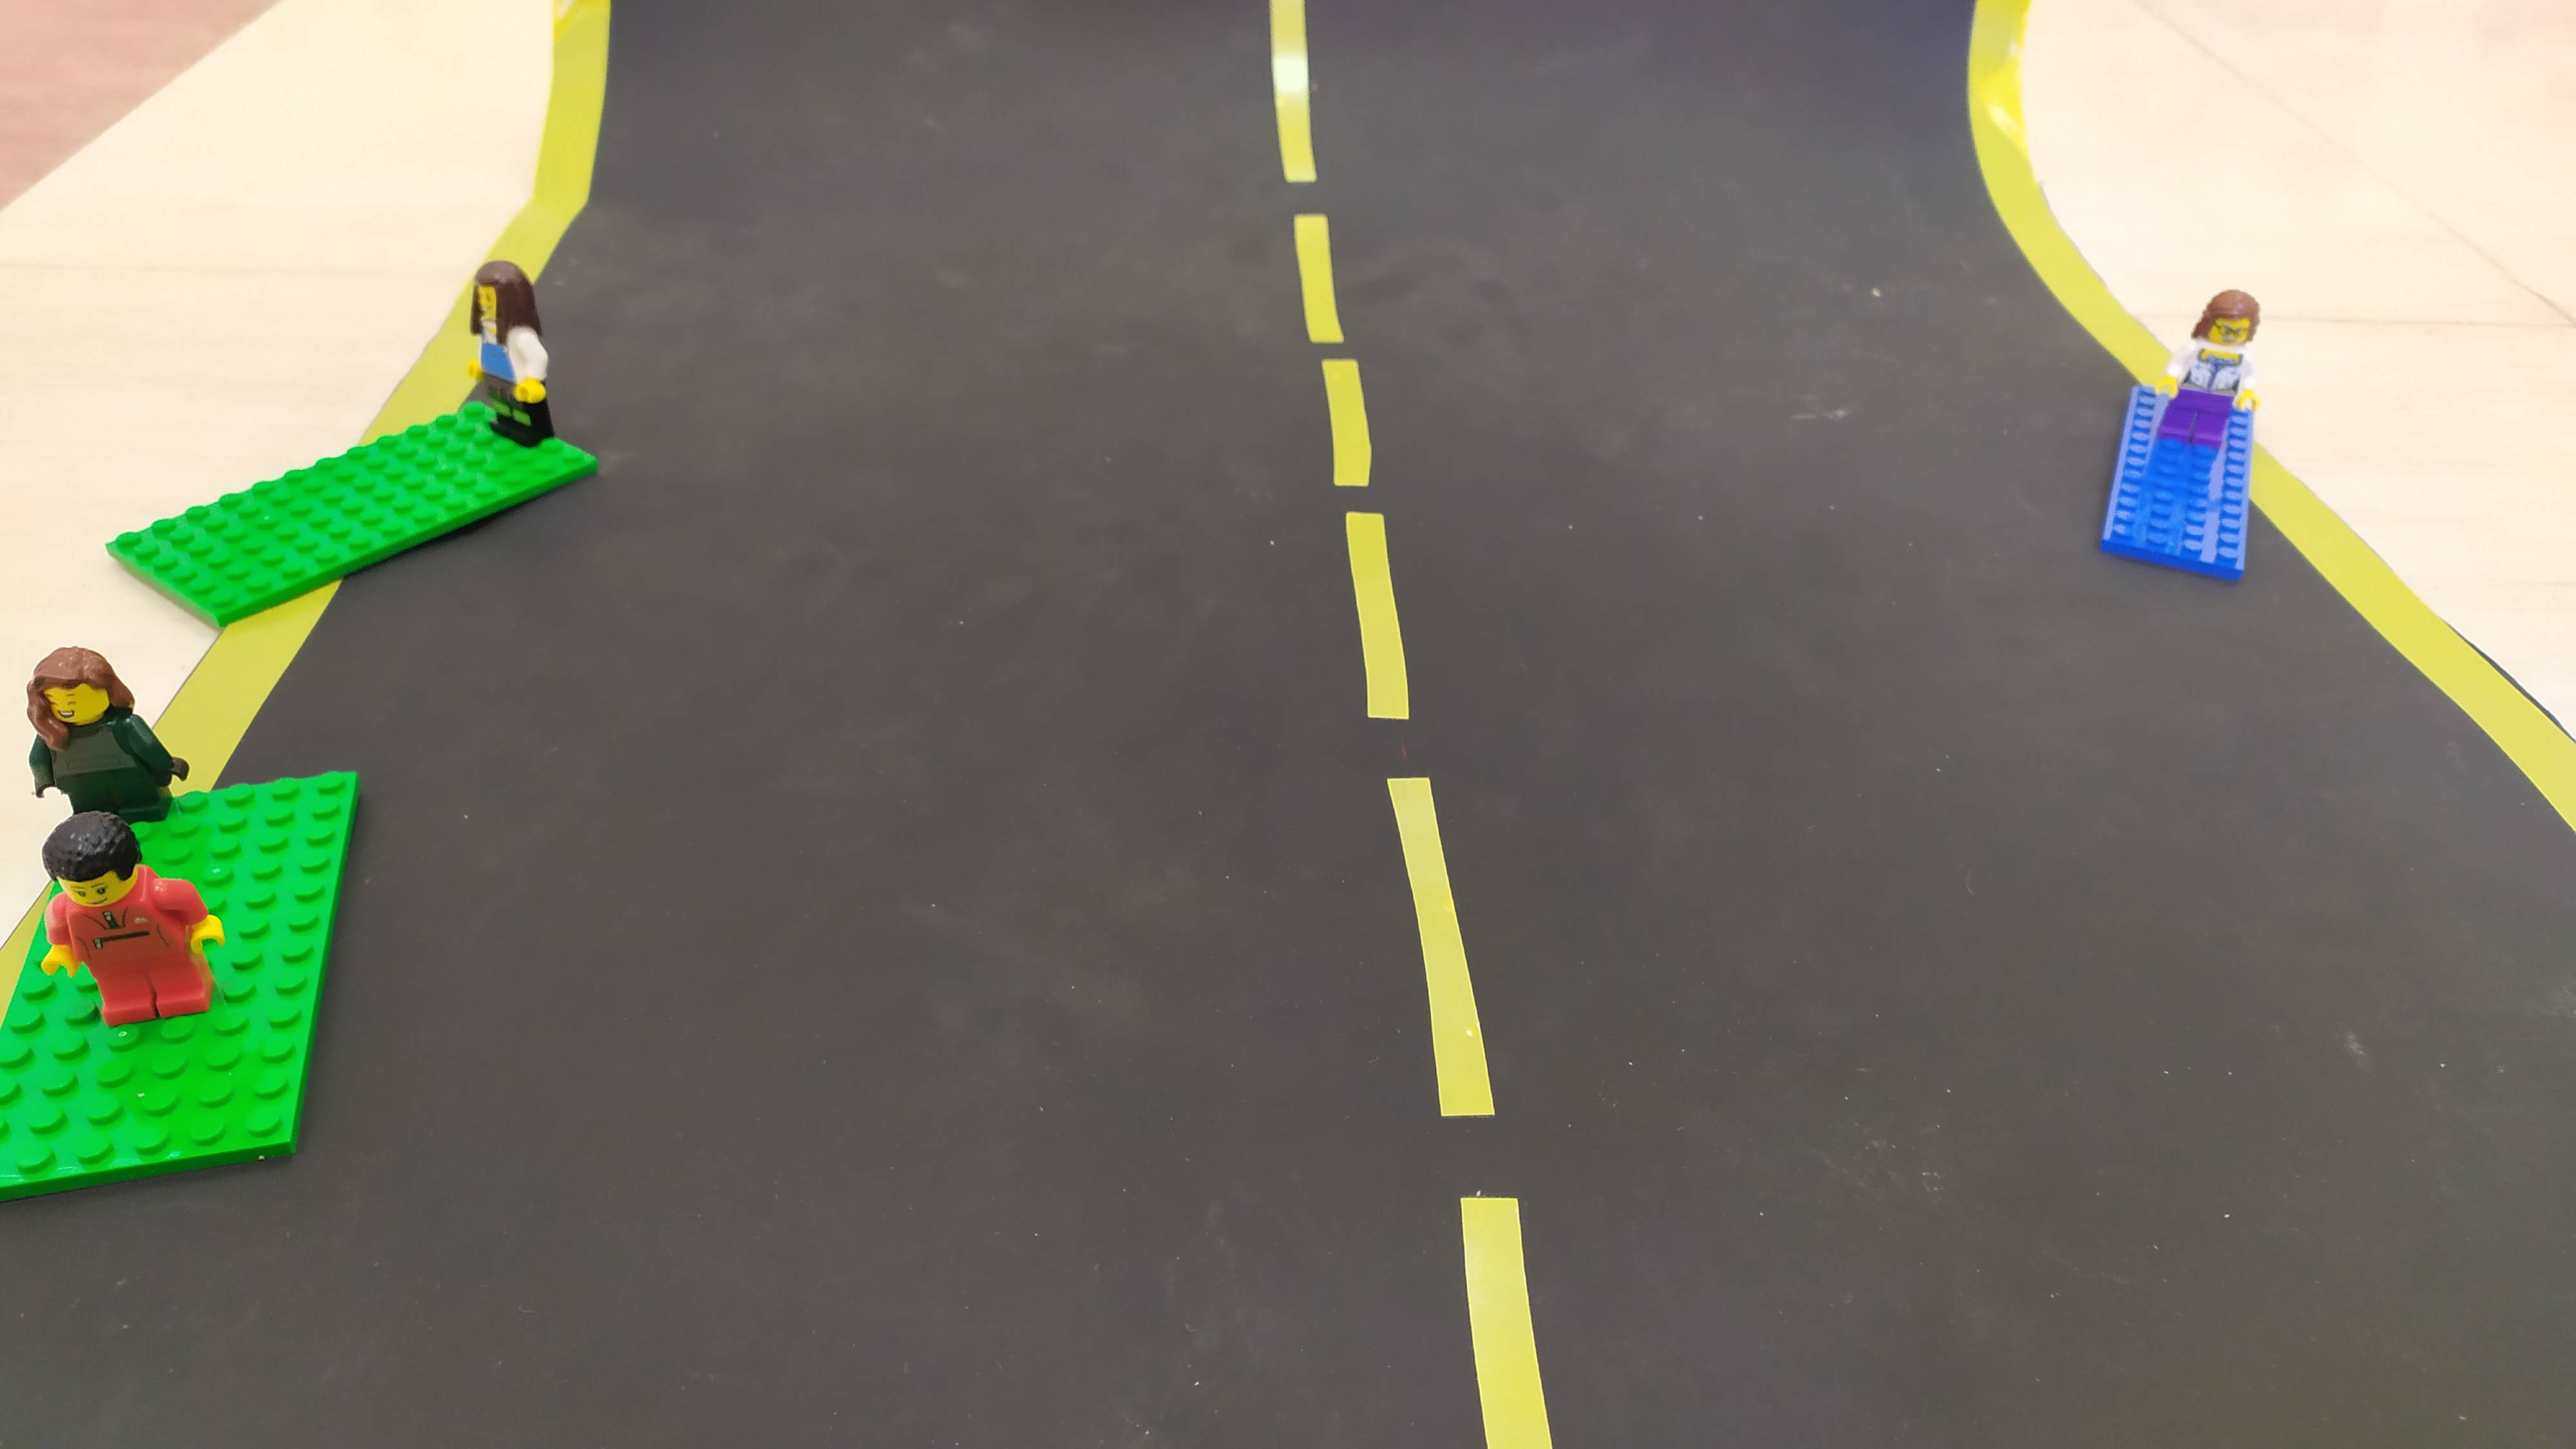Person: (29, 821, 190, 1085), (23, 641, 158, 840), (2148, 287, 2283, 454), (448, 254, 563, 435)
